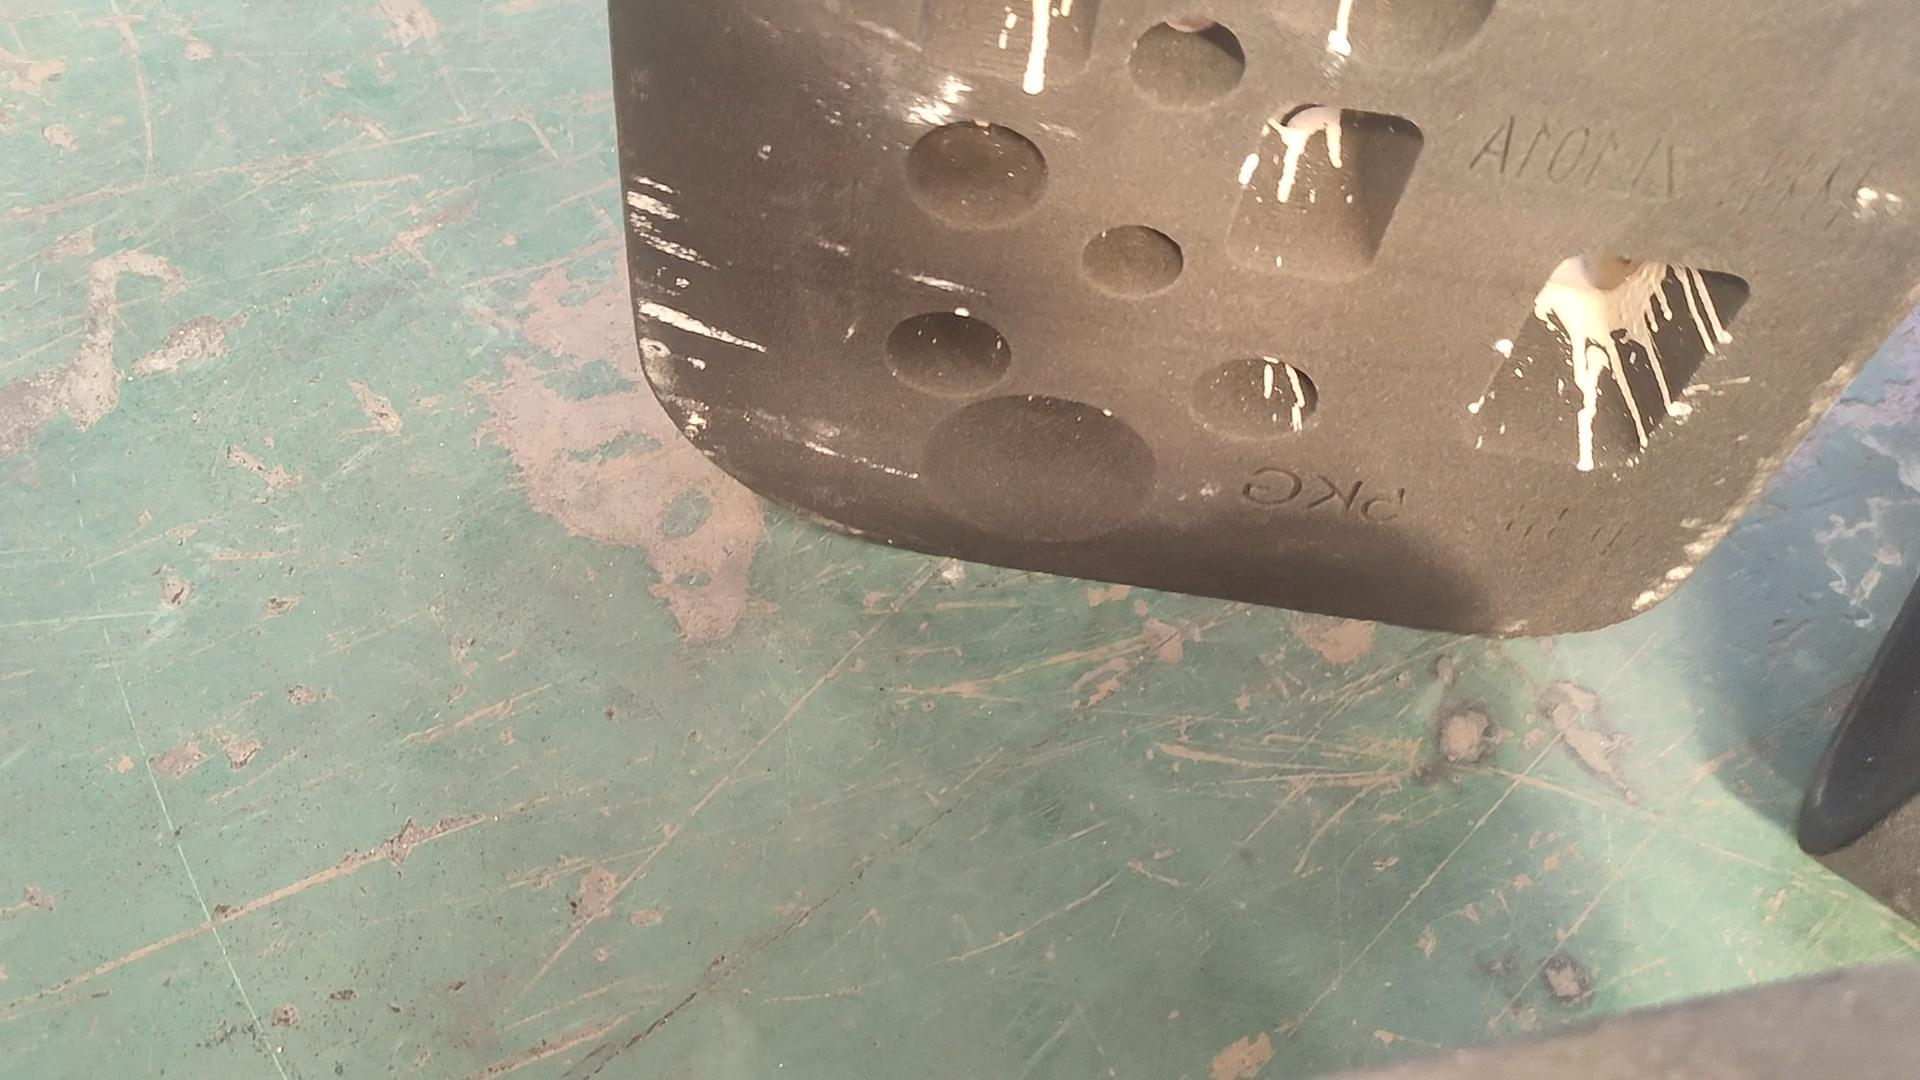pouring hole: (920, 394, 1160, 545)
